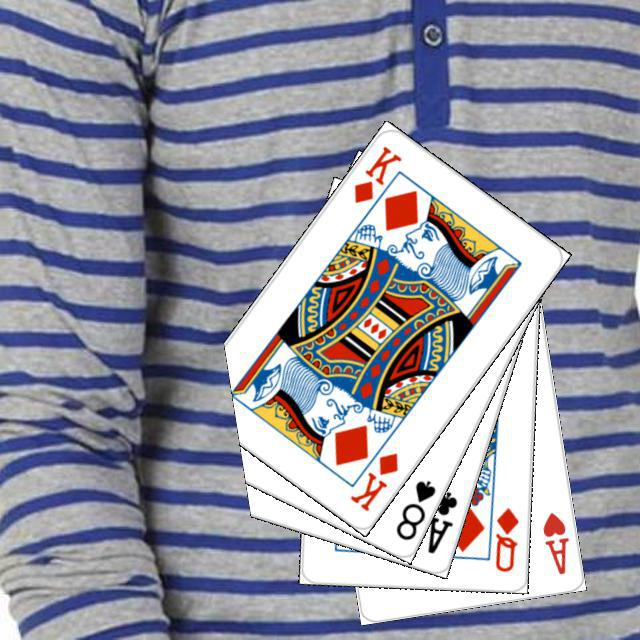8s: (391, 475, 438, 543)
Ac: (422, 486, 459, 556)
Ah: (538, 507, 570, 576)
Kd: (345, 447, 400, 513), (348, 140, 403, 205)
Qd: (490, 503, 520, 573)
